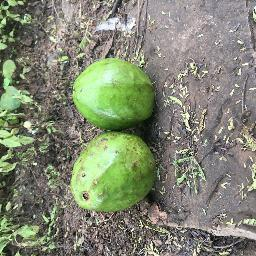Good_guava: (70, 132, 168, 215), (67, 57, 169, 127)
